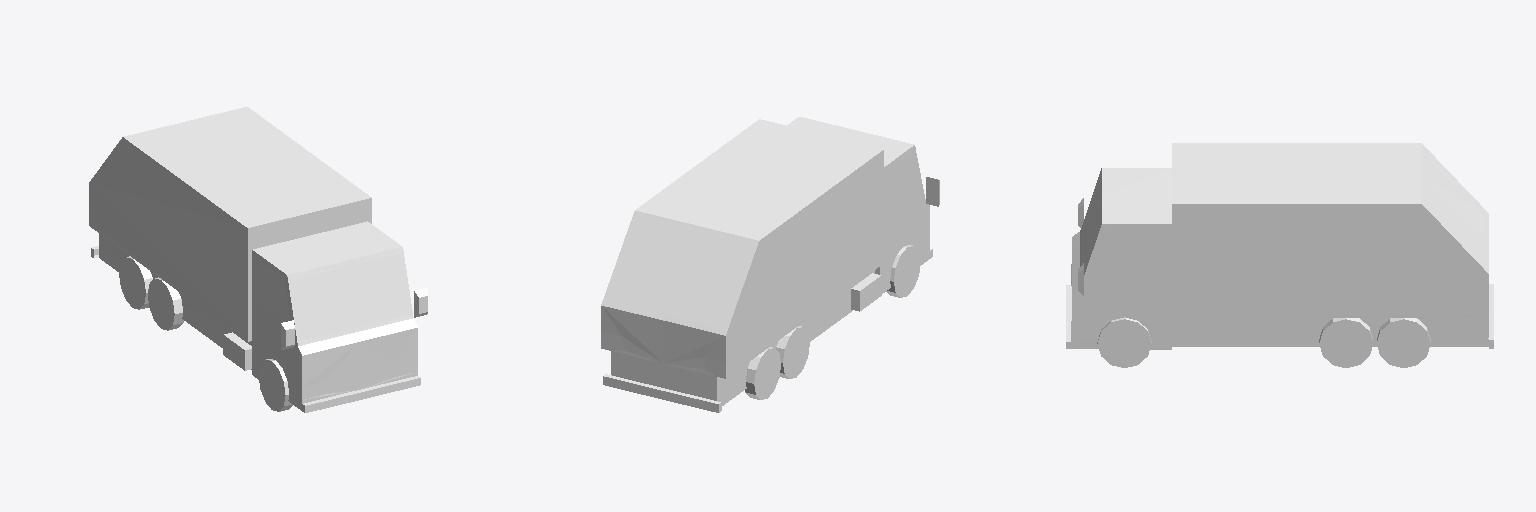
Rendered from truck2.obj.
3 views of the same model, side by side, from view 1: azimuth 30°, elevation 25°; view 2: azimuth 150°, elevation 25°; view 3: azimuth 270°, elevation 25° (orthographic).
Visible parts, largest first — view 1: RubbishTruck_mesh_Mesh.005; view 2: RubbishTruck_mesh_Mesh.005; view 3: RubbishTruck_mesh_Mesh.005.
Part boxes in pixels (bbox=[...]): RubbishTruck_mesh_Mesh.005: bbox=[89, 107, 427, 412]; RubbishTruck_mesh_Mesh.005: bbox=[601, 117, 939, 412]; RubbishTruck_mesh_Mesh.005: bbox=[1066, 143, 1493, 367].
Bounding box in the file's own units: 3.44 × 3.7 × 8.72.